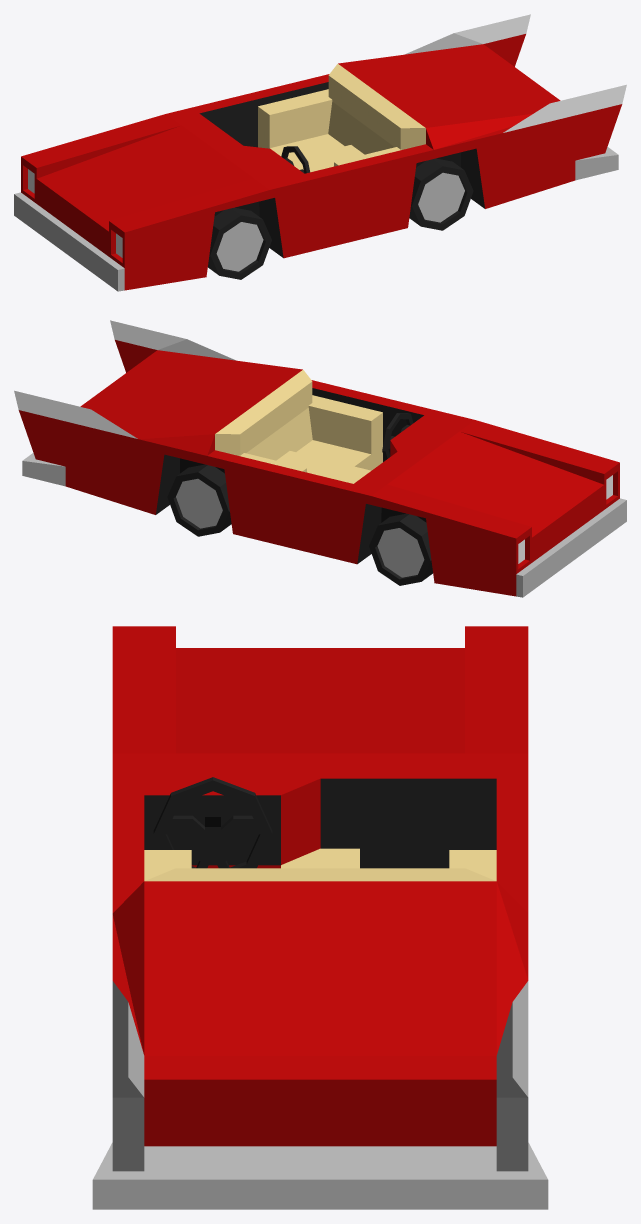
Rendered from red car.fbx.
3 renders of one model, top to bottom at view 1: azimuth 30°, elevation 25°; view 2: azimuth 150°, elevation 25°; view 3: azimuth 270°, elevation 25°, orthographic. The views are drawn at different scales.
Visible parts, largest first — view 1: Model; view 2: Model; view 3: Model.
Boxes of the visible parts, bbox=[...] form: Model: bbox=[14, 14, 626, 291]; Model: bbox=[14, 320, 626, 597]; Model: bbox=[92, 626, 548, 1209].
Bounding box in the file's own units: 14959 × 2868 × 5750.
